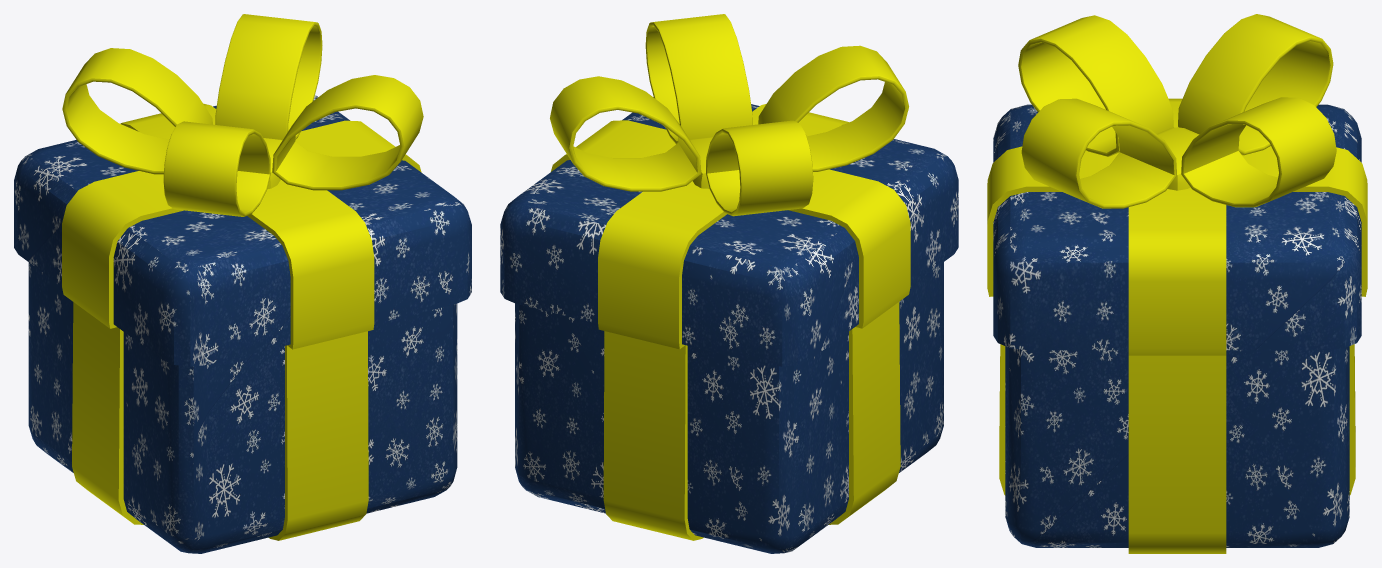
File: gift_box1.fbx
The picture shows the model from 3 angles, left to right: view 1: azimuth 30°, elevation 25°; view 2: azimuth 150°, elevation 25°; view 3: azimuth 270°, elevation 25°; orthographic projection. The views are drawn at different scales.
Visible parts, largest first — view 1: Gift_box 1; view 2: Gift_box 1; view 3: Gift_box 1.
Part boxes in pixels (x1=…): Gift_box 1: x1=14, y1=14, x2=471, y2=553; Gift_box 1: x1=500, y1=14, x2=958, y2=553; Gift_box 1: x1=987, y1=14, x2=1367, y2=553.
Size of the model in its own units: 206 by 252 by 206.
2 materials, 1 textured.
